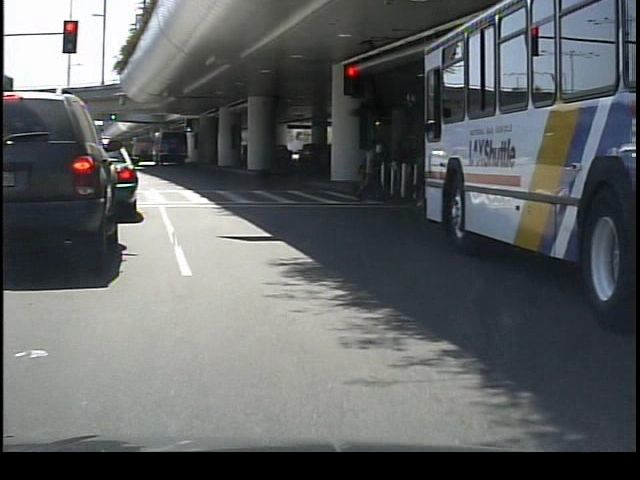person: (352, 138, 386, 204)
